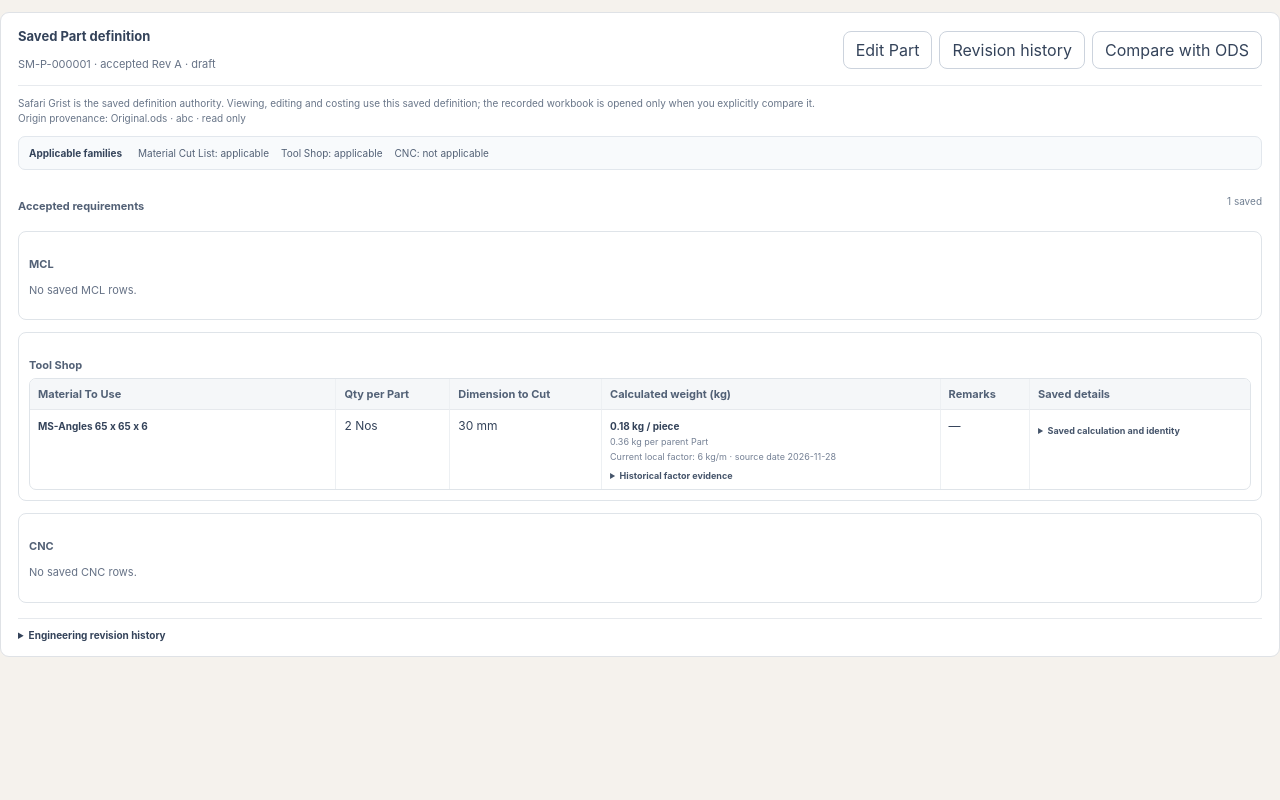
Test case: shows physical Tool Shop weight from the current local master while retaining its saved factor evidence
The image size is (1280, 800).
expect the text "0.18 kg / piece" is shown: met, box [610, 420, 679, 432]
expect the text "0.36 kg per parent Part" is shown: met, box [610, 436, 708, 447]
Click the heading "Saved calculation and identity": (1114, 430) [1048, 425, 1180, 436]
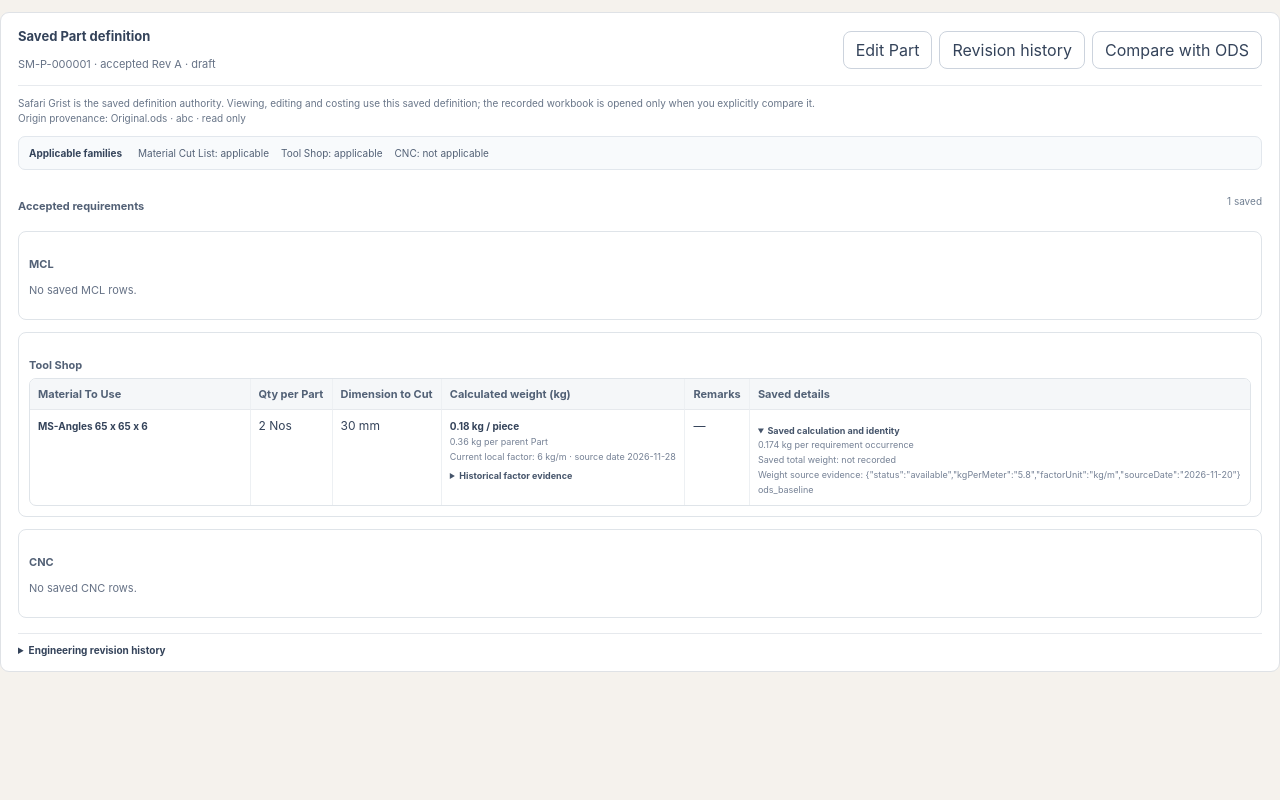
Click the heading "Historical factor evidence": (516, 476) [459, 470, 572, 481]
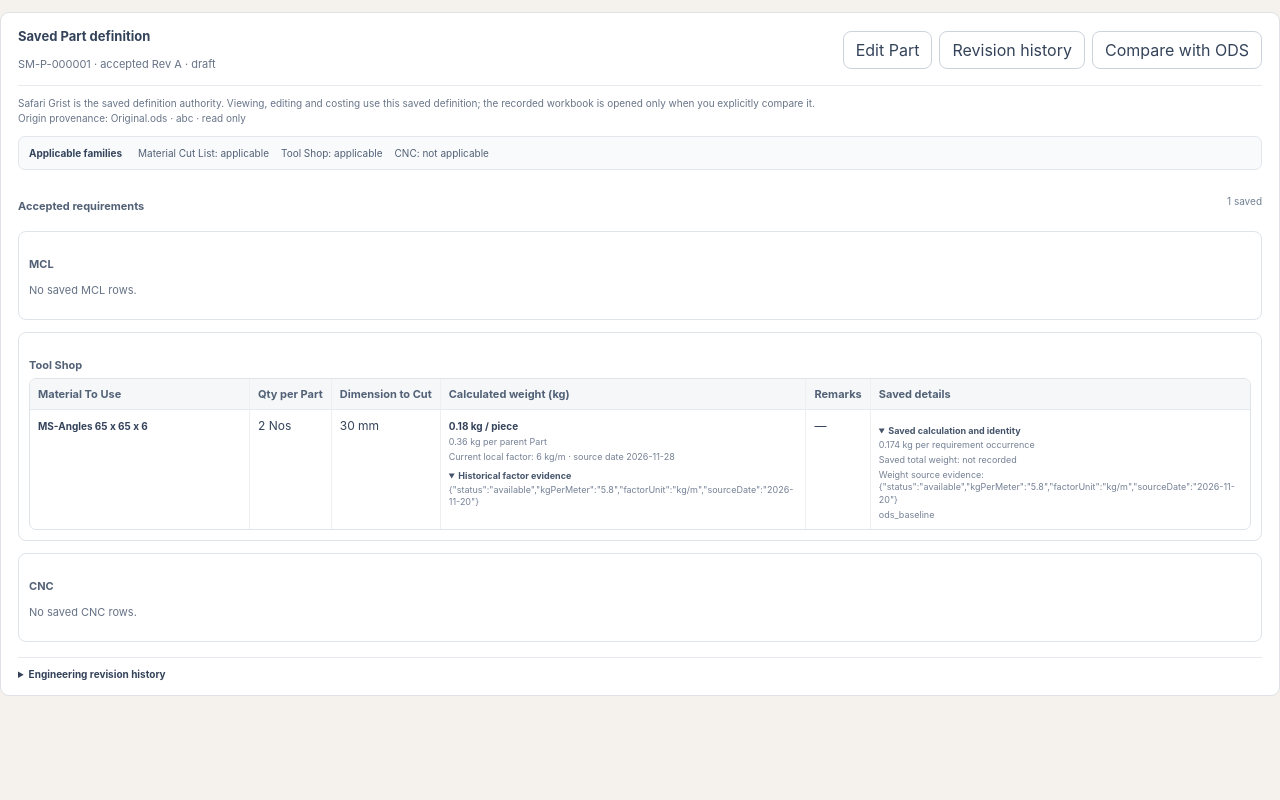
expect the text "5.8" is shown: met, box [449, 484, 793, 507]
